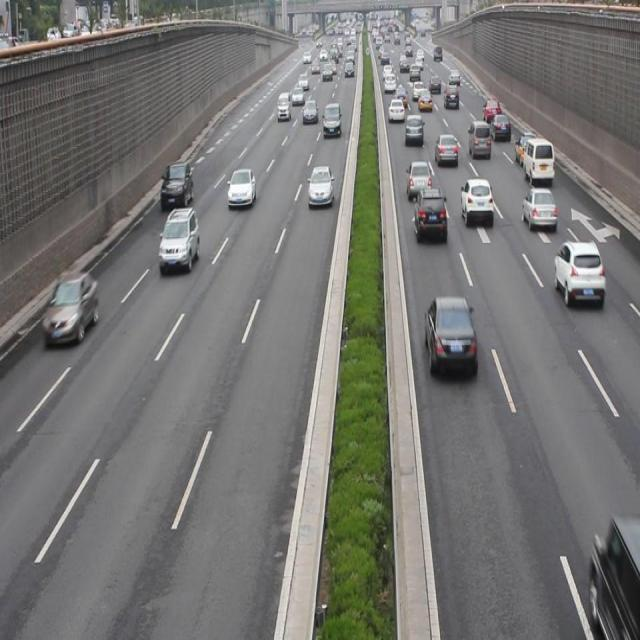car: (588, 518, 640, 640), (422, 294, 477, 378), (43, 272, 98, 345), (552, 241, 604, 310), (158, 206, 199, 270), (413, 187, 446, 243), (159, 160, 193, 210), (460, 179, 493, 226), (522, 186, 556, 230), (227, 167, 256, 208), (307, 165, 332, 207), (406, 161, 432, 200), (433, 132, 458, 167), (514, 132, 534, 165), (404, 113, 422, 147), (491, 111, 510, 142), (481, 97, 501, 125), (301, 96, 318, 128), (388, 96, 404, 124)
truck: (523, 137, 554, 182), (467, 120, 491, 160), (322, 103, 341, 138)
